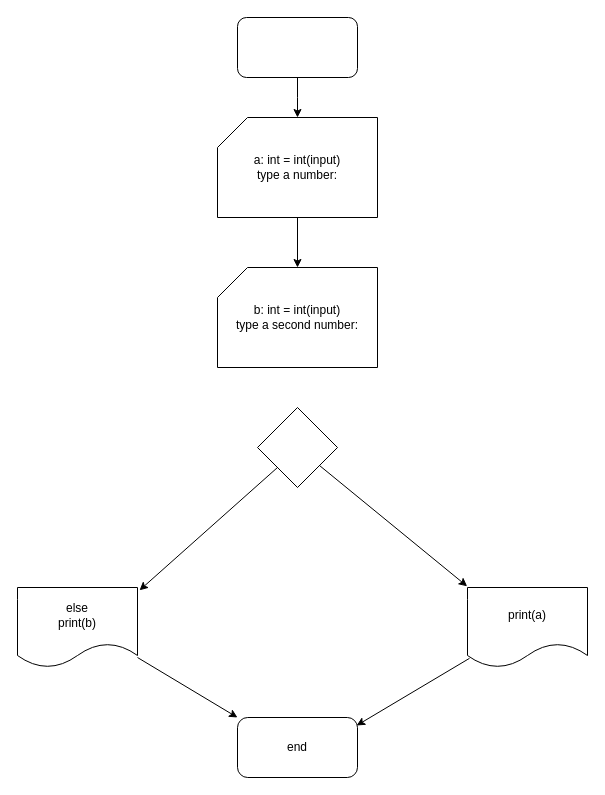
The diagram is 605 pixels wide and 795 high, and some of its shapes have lost their labels. The shapes that lost their labels are listed below. From the top down, each one's box as (x1, y1, x2, y2) in pixels, then its label:
(236, 16, 358, 78): start
(256, 406, 338, 488): if a > b
